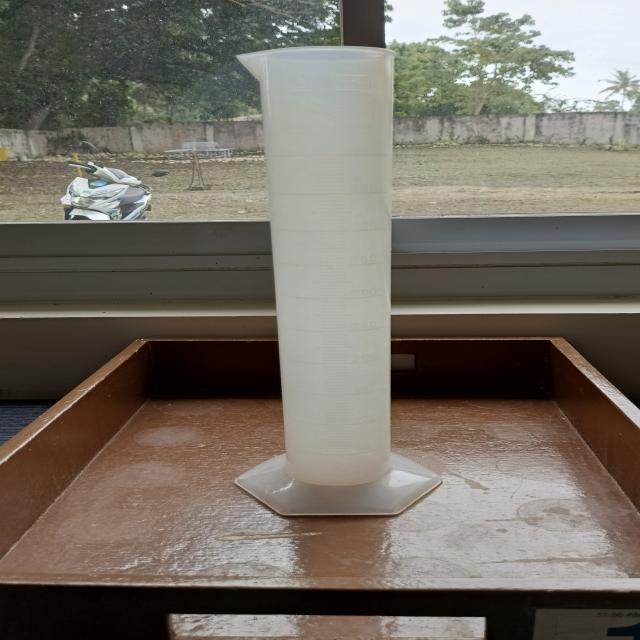graduated_cylinder: (224, 37, 447, 522)
